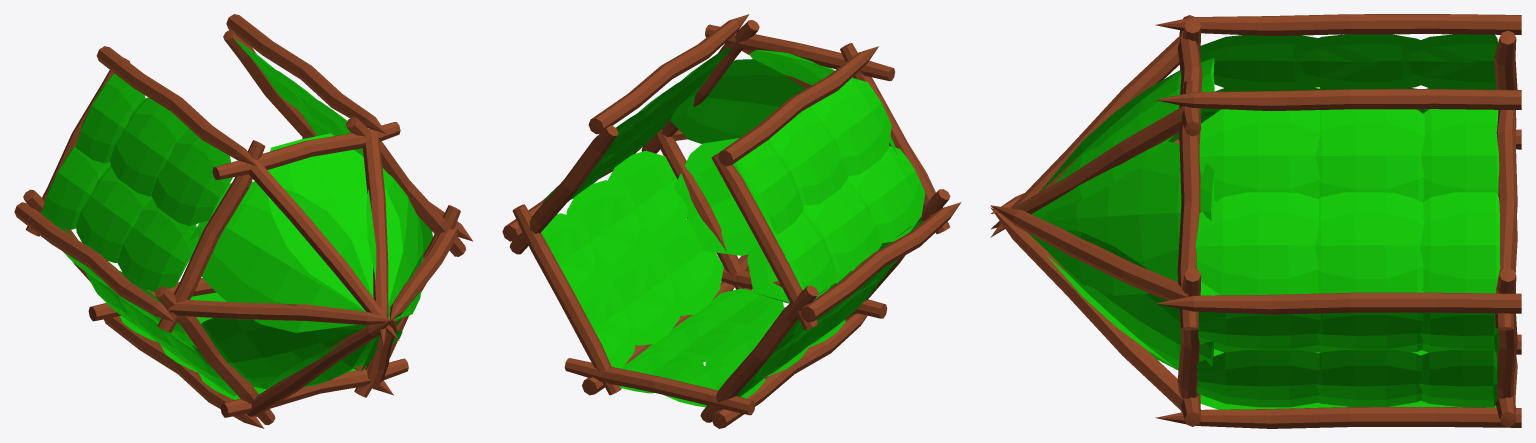
Rendered from Cabin.fbx.
The picture shows the model from 3 angles, left to right: view 1: azimuth 30°, elevation 25°; view 2: azimuth 150°, elevation 25°; view 3: azimuth 270°, elevation 25°; orthographic projection. The views are drawn at different scales.
Parts seen in each view (by area): view 1: Torus.007; view 2: Torus.007; view 3: Torus.007.
Boxes of the visible parts, bbox=[...] form: Torus.007: bbox=[14, 14, 473, 428]; Torus.007: bbox=[502, 14, 961, 428]; Torus.007: bbox=[990, 14, 1521, 428].
Size of the model in its own units: 659 by 568 by 803.
